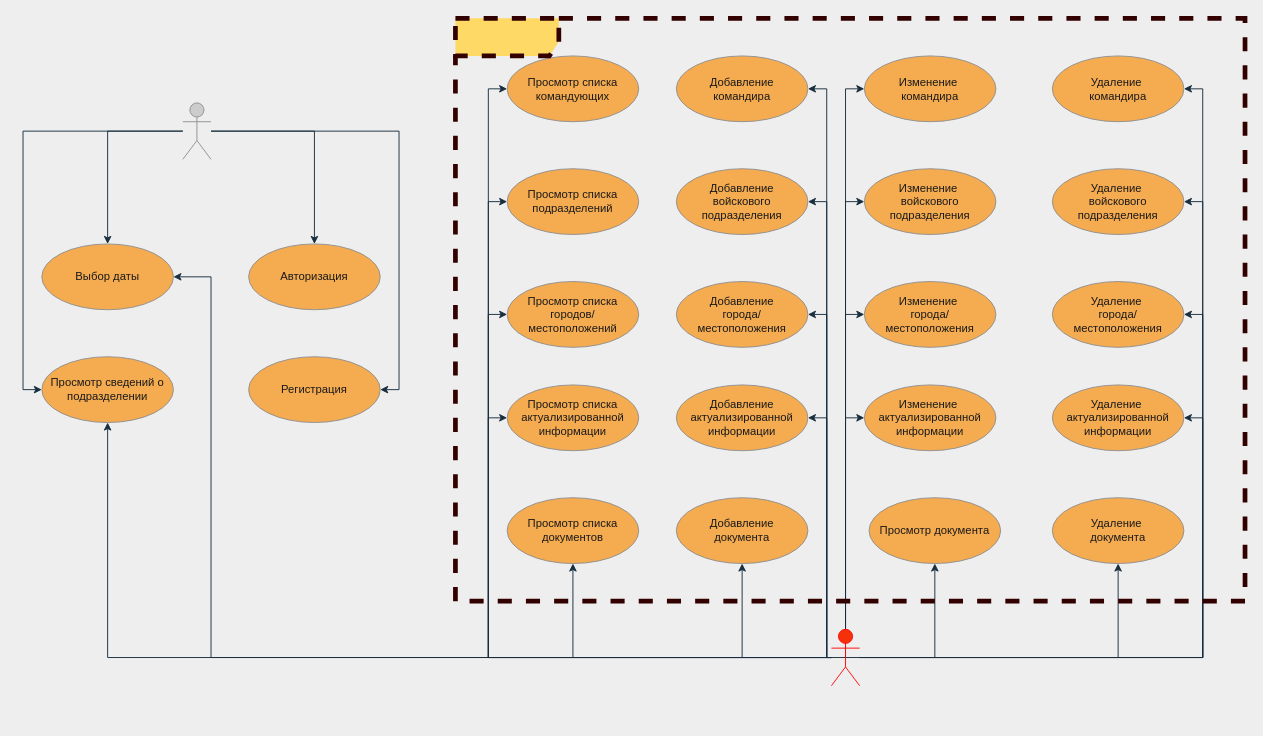
The diagram is 1263 pixels wide and 736 high, and some of its shapes have lost their labels. Each missing label, with the centre of its shape:
Авторизованный пользователь: [845,657]
Манипуляции с данными: [850,309]
Неавторизованный пользователь: [196,130]
